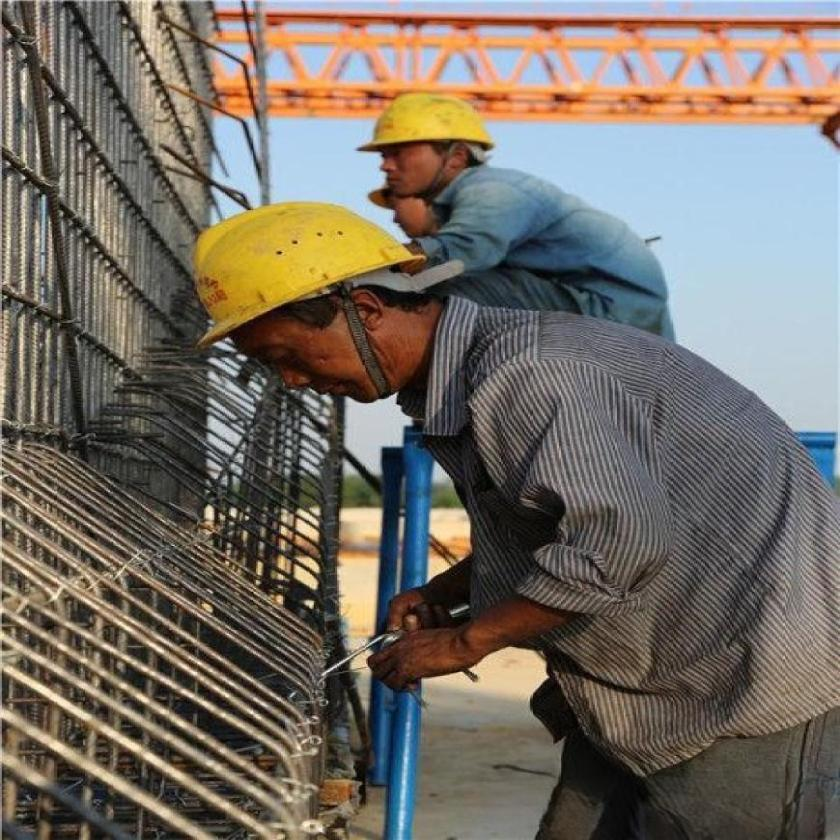Con_casco: (191, 204, 451, 423), (360, 76, 500, 202)
